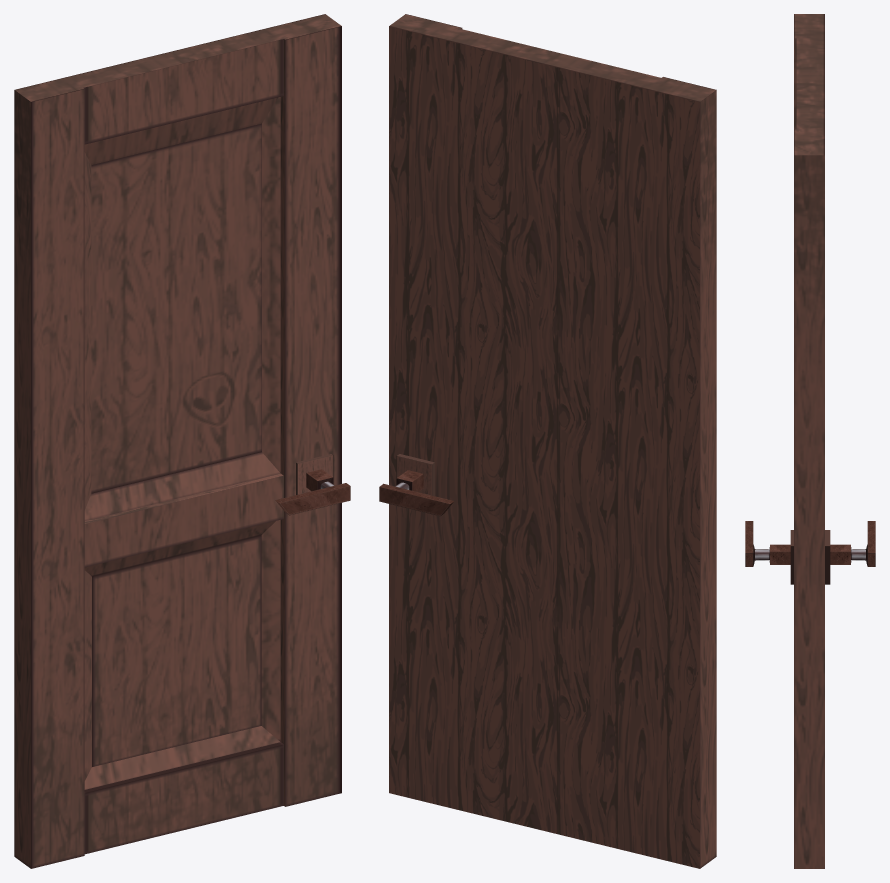
File: Door.fbx
3 views of the same model, side by side, from view 1: azimuth 30°, elevation 25°; view 2: azimuth 150°, elevation 25°; view 3: azimuth 270°, elevation 25° (orthographic). The views are drawn at different scales.
Parts seen in each view (by area): view 1: Door, HandleFDynamic, HandleFStatic; view 2: Door, HandleBDynamic, HandleBStatic; view 3: Door, HandleBDynamic, HandleFDynamic, HandleBStatic.
Part boxes in pixels (x1,y1,x2,y2): Door: (14, 14, 341, 868); HandleFDynamic: (275, 469, 350, 515); HandleFStatic: (296, 453, 333, 494); Door: (389, 14, 716, 868); HandleBDynamic: (379, 470, 454, 516); HandleBStatic: (396, 453, 434, 495); Door: (794, 14, 824, 868); HandleBDynamic: (830, 521, 875, 566); HandleFDynamic: (745, 521, 790, 566); HandleBStatic: (825, 530, 830, 584).
Size of the model in its own units: 599 by 1411 by 234.
Materials: 6 (6 with a texture image).
